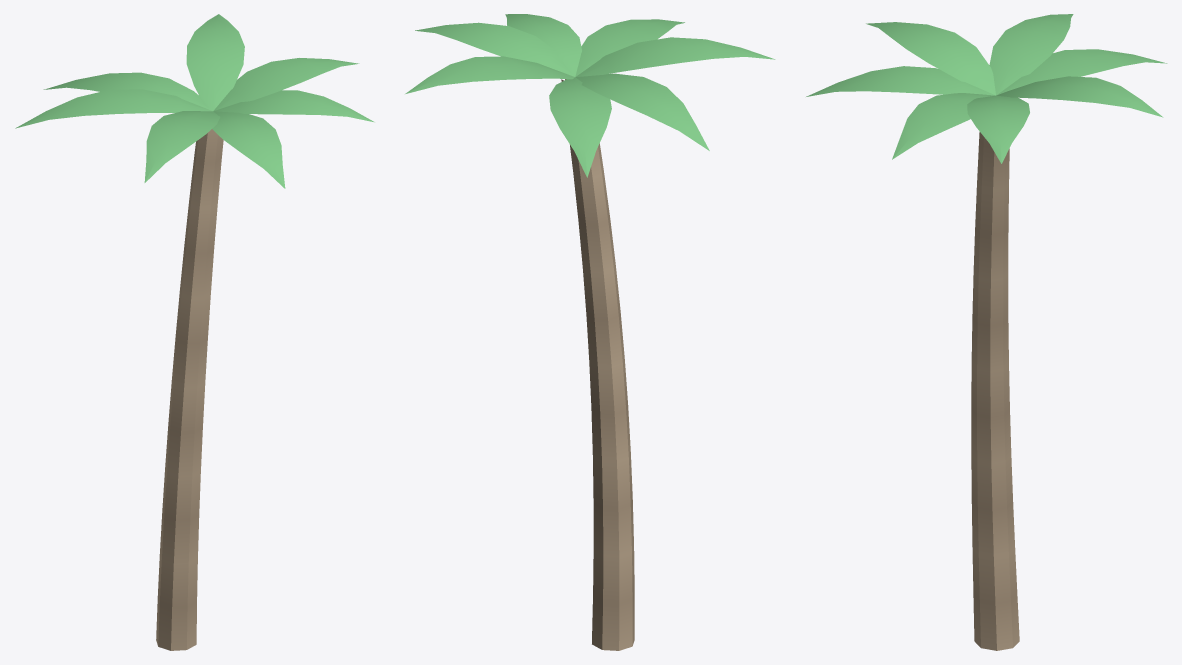
Rendered from palm_tree_c.glb.
3 views of the same model, side by side, from view 1: azimuth 30°, elevation 25°; view 2: azimuth 150°, elevation 25°; view 3: azimuth 270°, elevation 25° (orthographic). The views are drawn at different scales.
Visible parts, largest first — view 1: fronds, trunk; view 2: fronds, trunk; view 3: fronds, trunk.
Part boxes in pixels (box(x1,y1,x2,y2)): fronds: box(15, 14, 374, 188); trunk: box(156, 129, 223, 650); fronds: box(405, 14, 775, 177); trunk: box(561, 79, 634, 650); fronds: box(806, 14, 1167, 163); trunk: box(971, 132, 1019, 650).
Bounding box in the file's own units: 3.44 × 5.82 × 3.2.
